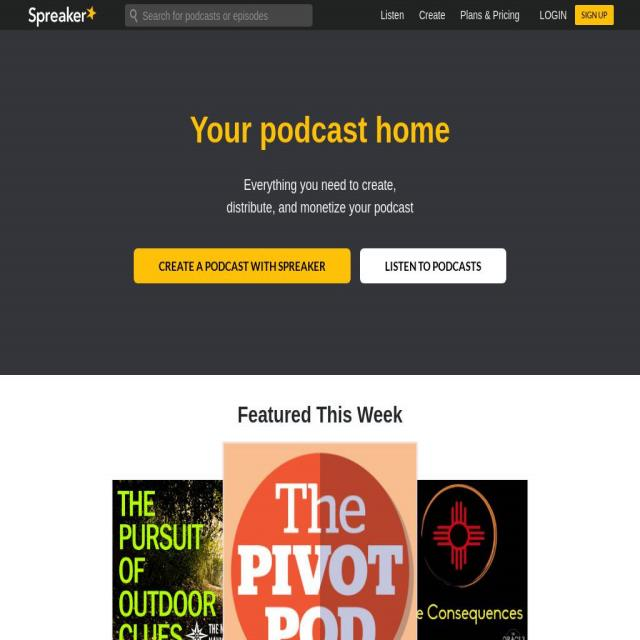login-option: (538, 4, 572, 28)
navigation-links: (372, 2, 524, 30)
search: (121, 1, 320, 32)
sign-up-option: (578, 7, 618, 30)
